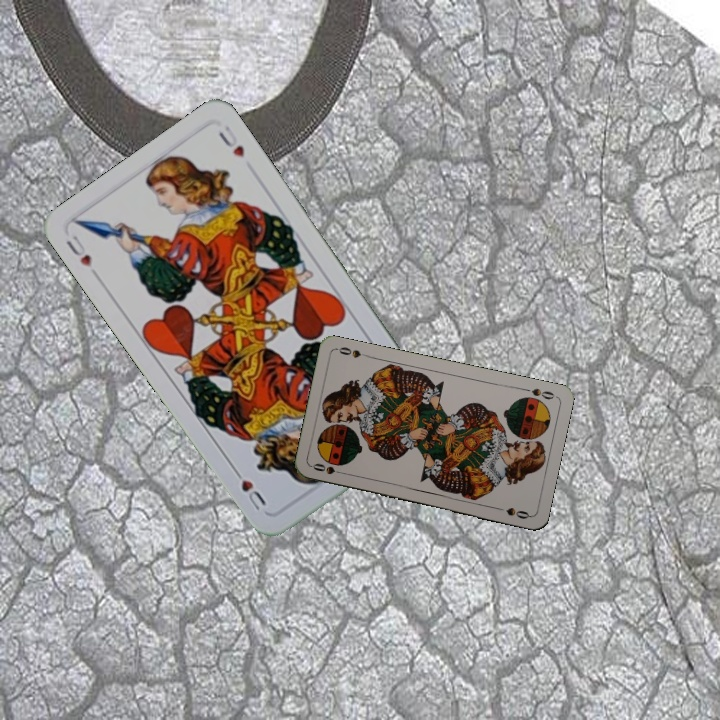HU: (62, 231, 95, 270)
SO: (309, 459, 349, 478), (518, 384, 557, 402)
